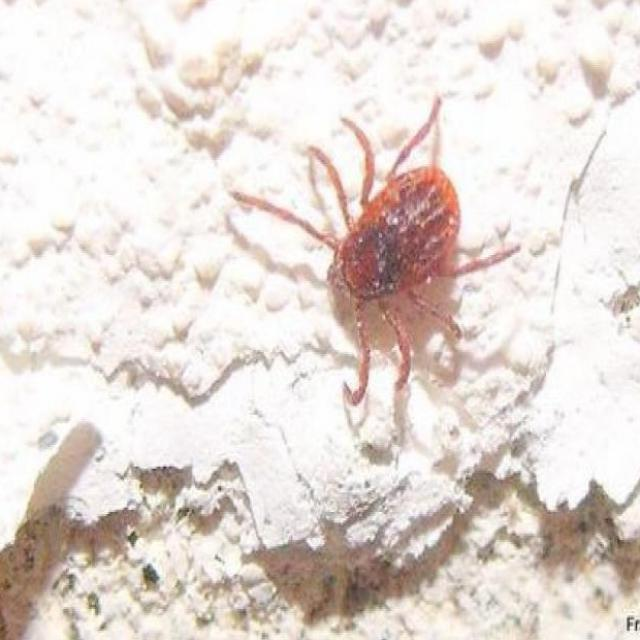Rhipicephalus Sanguineus-F: (230, 100, 522, 447)
